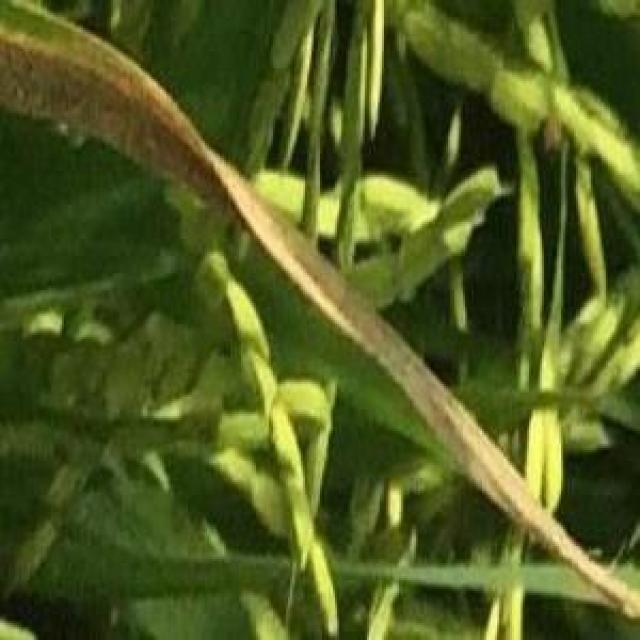Bacterial_Blight: (0, 29, 630, 601)
